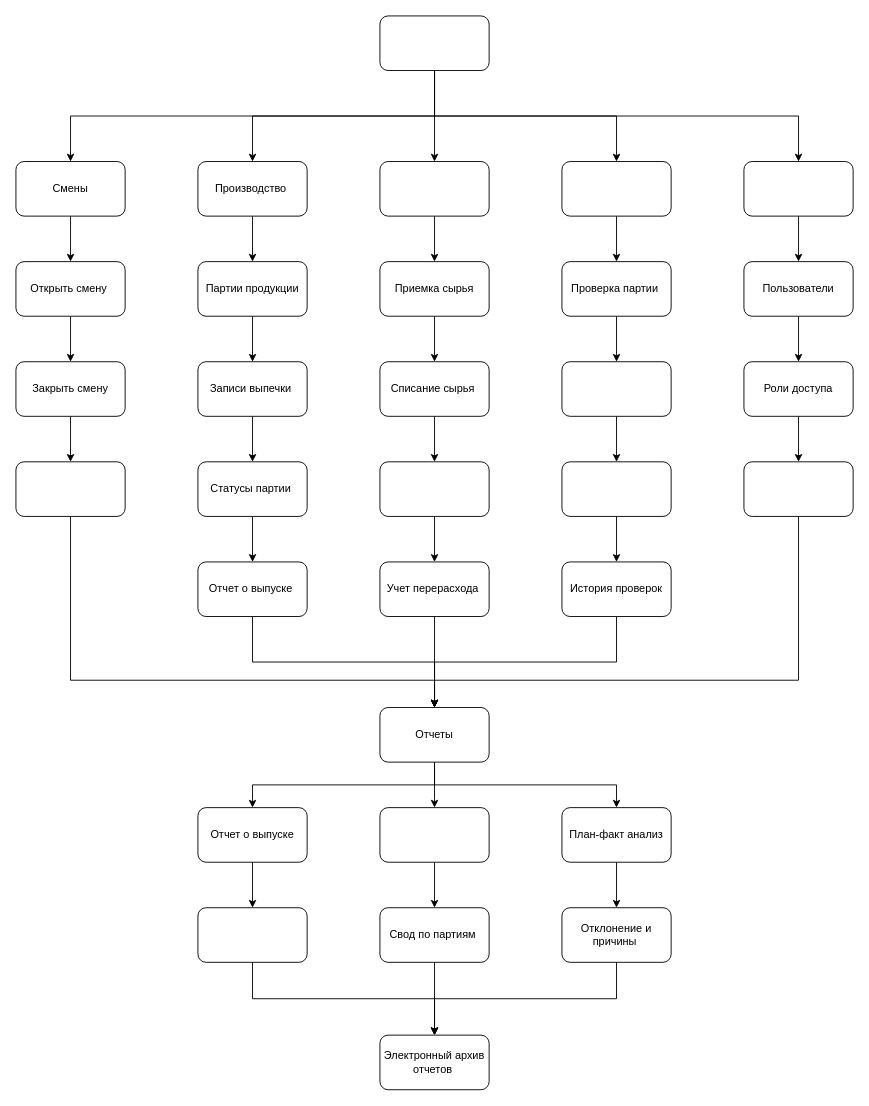
The diagram is 869 pixels wide and 1106 high, and some of its shapes have lost their labels. The centre of each missing label's shape, as x and y in pixels:
"Администрирование" goes at [798,188].
"Акты несоответствия" goes at [616,488].
"Главное меню" goes at [434,43].
"Журнал брака" goes at [616,388].
"Контроль качества" goes at [616,188].
"Настройки" goes at [798,488].
"Нормы расхода" goes at [434,488].
"Отчет о расходе сырья" goes at [434,834].
"сменный отчет" goes at [70,488].
"Сырье" goes at [434,188].
"Экспорт PDF/Exel" goes at [252,934].
